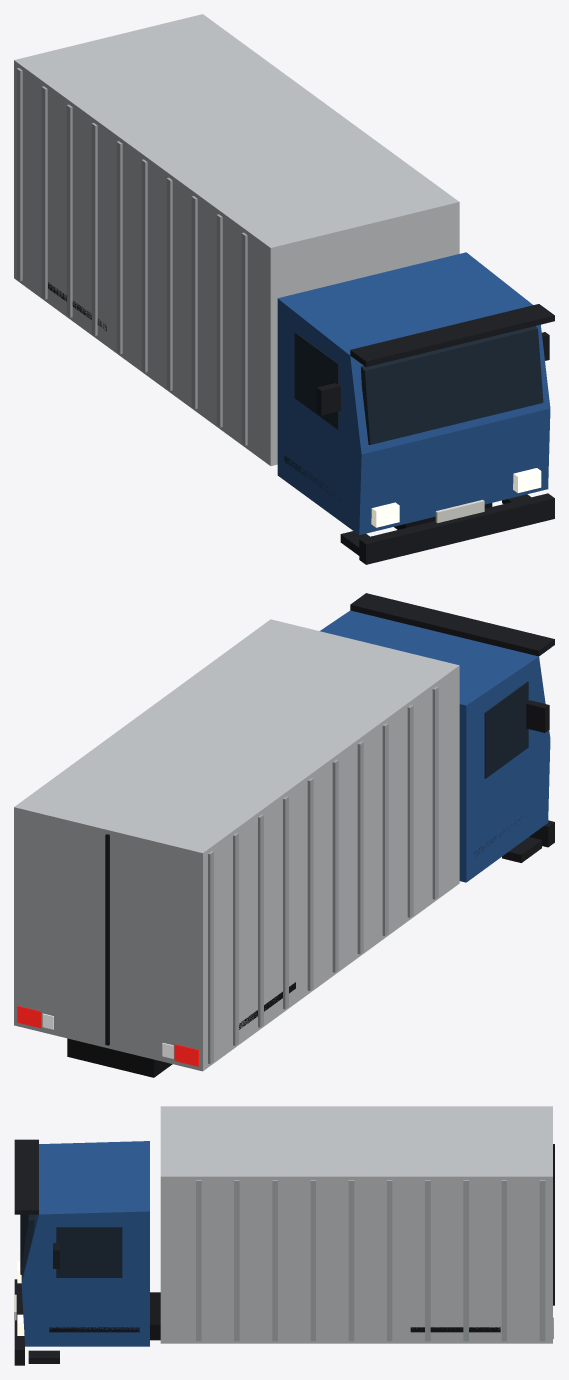
The model's file is veh_truck_body.glb.
The picture shows the model from 3 angles, top to bottom: view 1: azimuth 30°, elevation 25°; view 2: azimuth 150°, elevation 25°; view 3: azimuth 270°, elevation 25°; orthographic projection. The views are drawn at different scales.
Visible parts, largest first — view 1: veh_truck_body; view 2: veh_truck_body; view 3: veh_truck_body.
Boxes of the visible parts, bbox=[...] form: veh_truck_body: bbox=[14, 14, 554, 564]; veh_truck_body: bbox=[14, 593, 554, 1077]; veh_truck_body: bbox=[14, 1106, 554, 1365].
Bounding box in the file's own units: 2.9 × 3 × 7.79.
